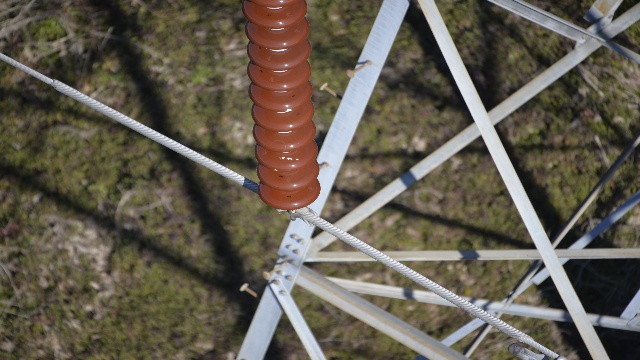insulator_unspecified: (243, 0, 320, 210)
pollution_flashover_local: (268, 139, 289, 154)
